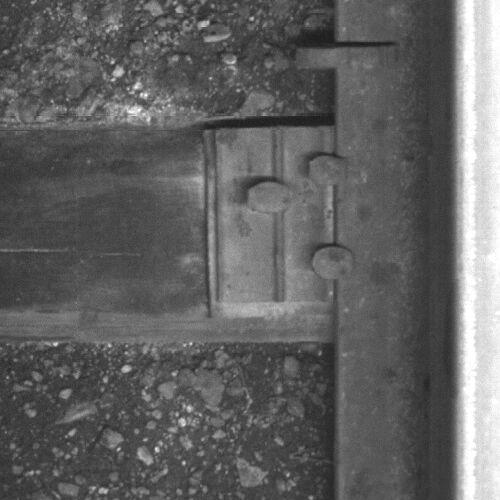crutch: (297, 42, 401, 68)
do: (212, 126, 356, 302)
rail: (450, 1, 500, 500)
tie_wood: (1, 128, 337, 344)
